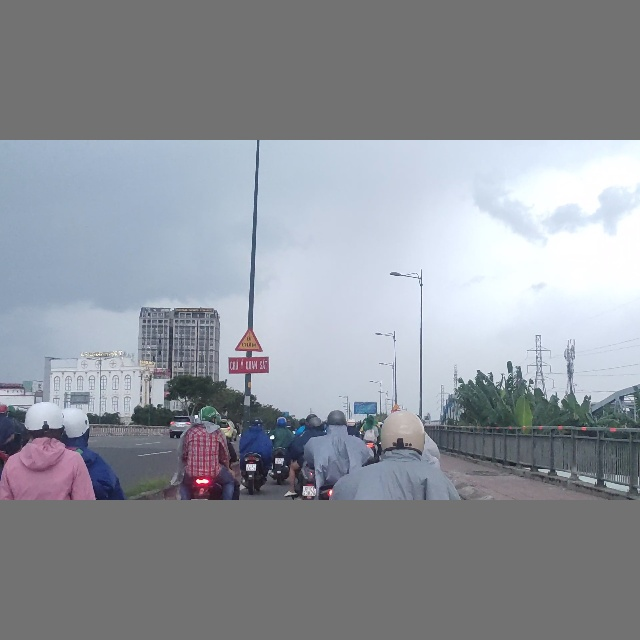W.245a: (235, 327, 263, 352)
